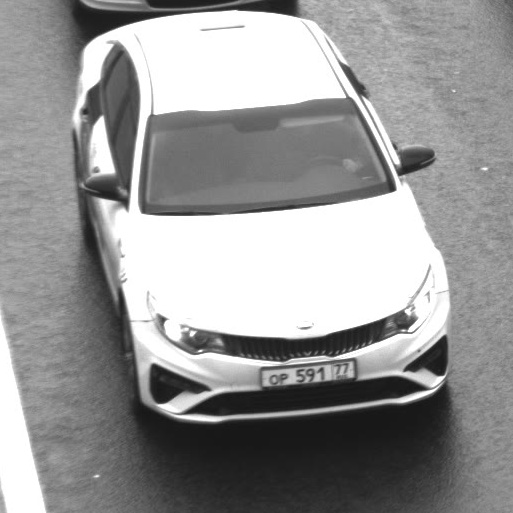plate: (251, 349, 366, 396)
